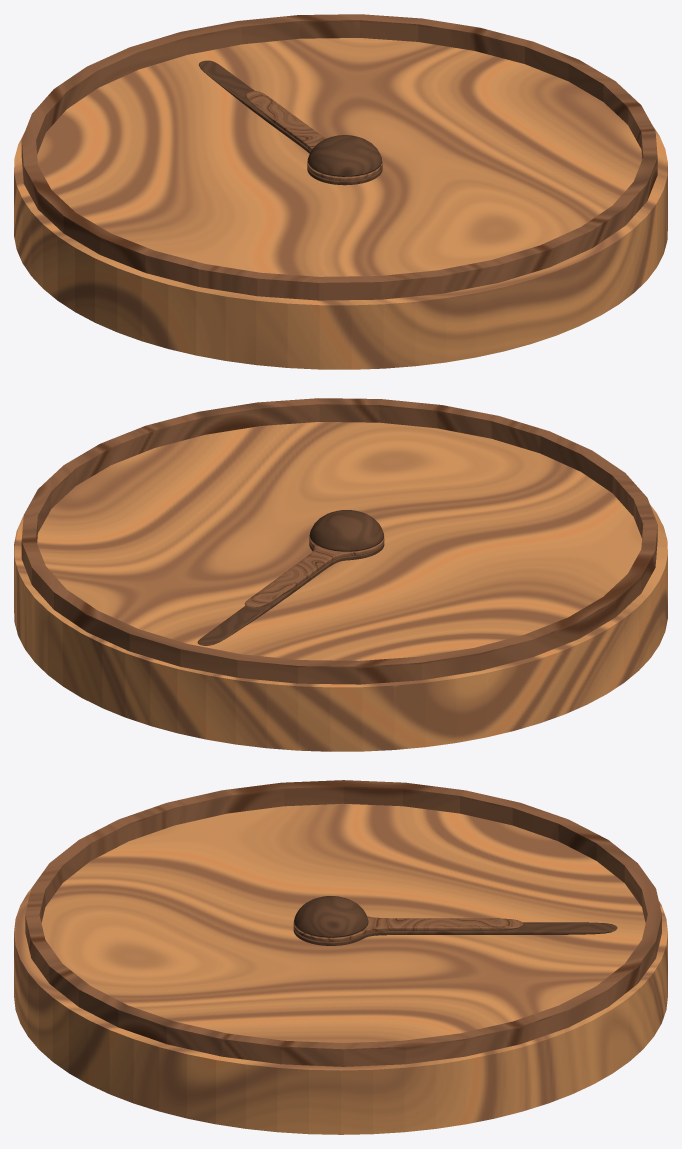
File: reloj4.fbx
3 views of the same model, one above another, from view 1: azimuth 30°, elevation 25°; view 2: azimuth 150°, elevation 25°; view 3: azimuth 270°, elevation 25° (orthographic).
Visible parts, largest first — view 1: Circle, Circle.001, Sphere, minutero, segundero; view 2: Circle, Circle.001, Sphere, minutero, segundero; view 3: Circle, Circle.001, Sphere, minutero, segundero.
Part boxes in pixels (x1=…): Circle: x1=14, y1=38, x2=667, y2=369; Circle.001: x1=21, y1=14, x2=657, y2=300; Sphere: x1=307, y1=135, x2=381, y2=176; minutero: x1=246, y1=91, x2=382, y2=180; segundero: x1=199, y1=60, x2=382, y2=185; Circle: x1=14, y1=422, x2=667, y2=751; Circle.001: x1=21, y1=398, x2=657, y2=684; Sphere: x1=309, y1=510, x2=383, y2=551; minutero: x1=244, y1=535, x2=384, y2=607; segundero: x1=197, y1=542, x2=384, y2=645; Circle: x1=14, y1=803, x2=667, y2=1134; Circle.001: x1=25, y1=780, x2=661, y2=1066; Sphere: x1=294, y1=896, x2=368, y2=937; minutero: x1=293, y1=916, x2=522, y2=941; segundero: x1=293, y1=922, x2=617, y2=945.
Bounding box in the file's own units: 1693 × 273 × 1693.
3 materials, 3 textured.
